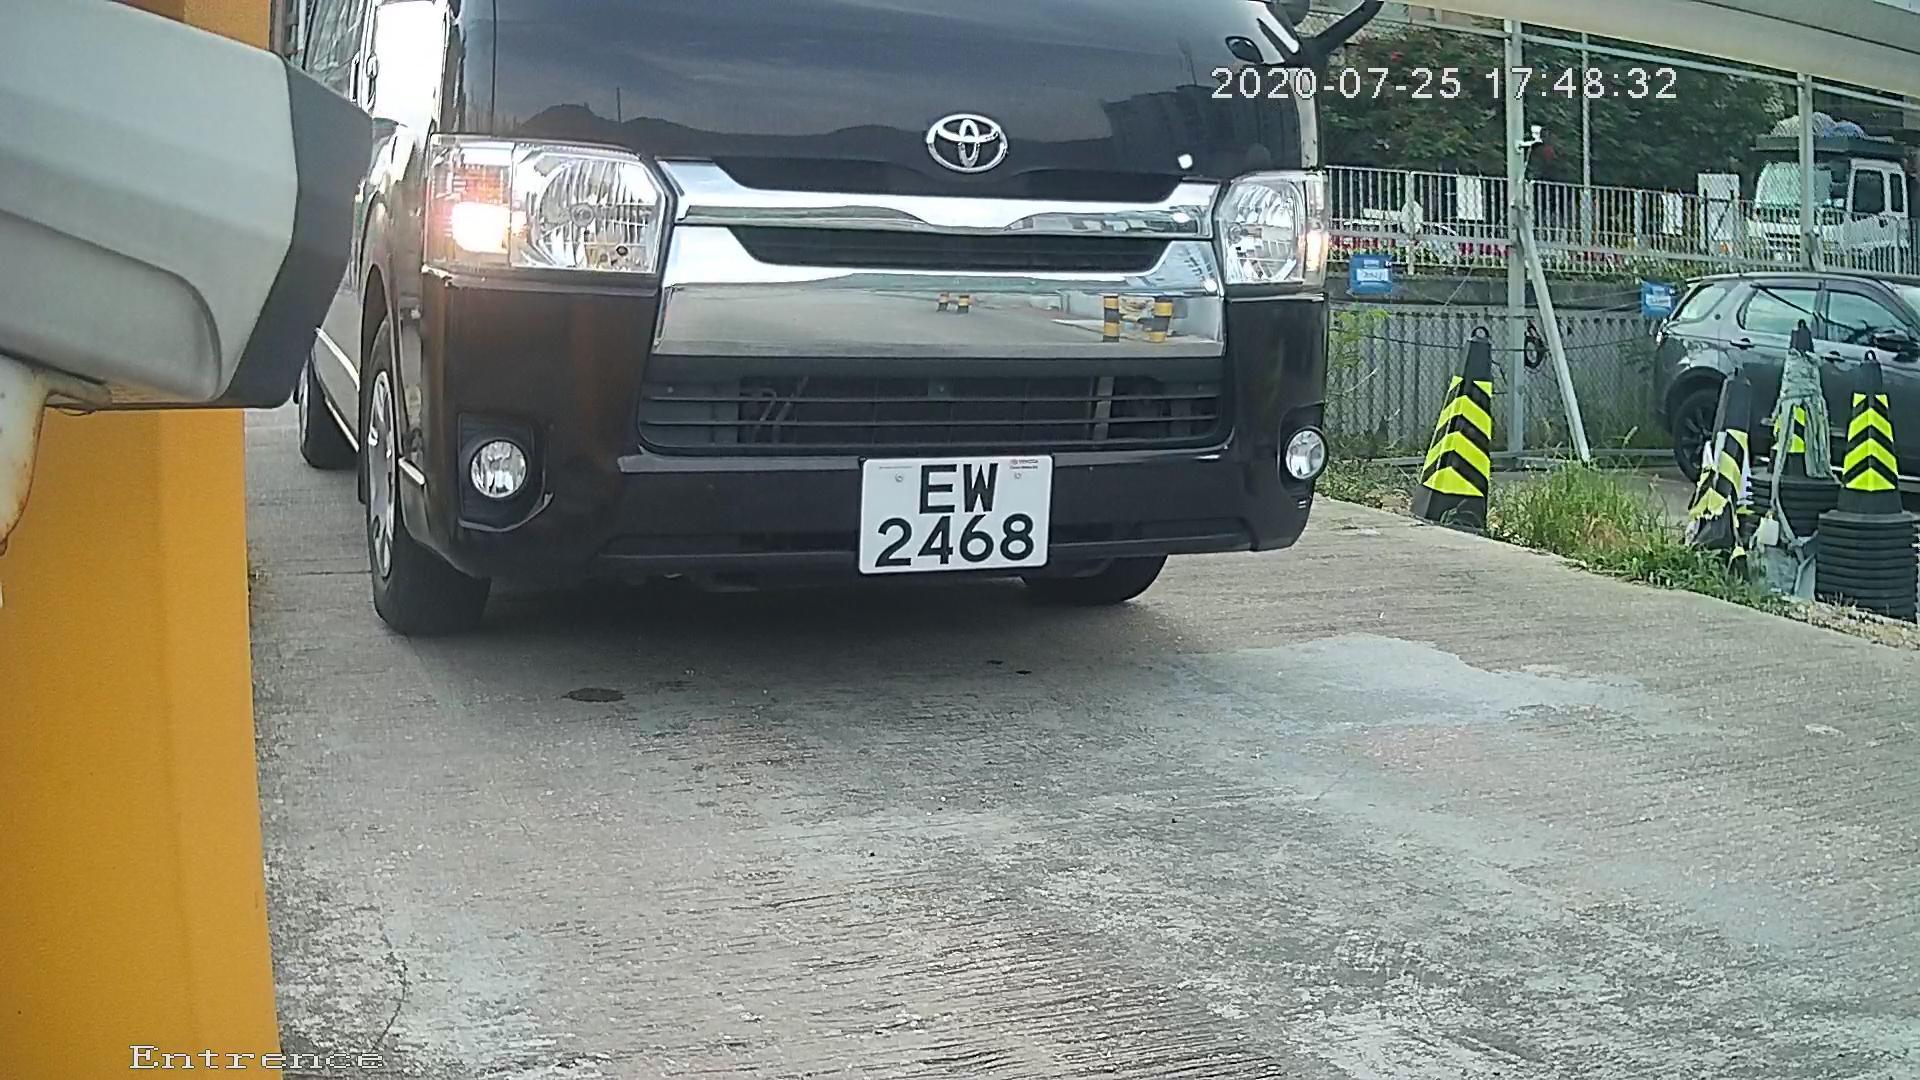privatecar: (215, 1, 1518, 695)
